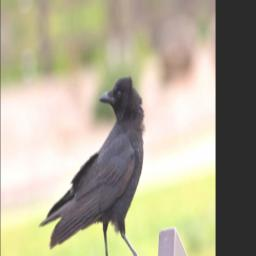Crow: (32, 72, 154, 256)
